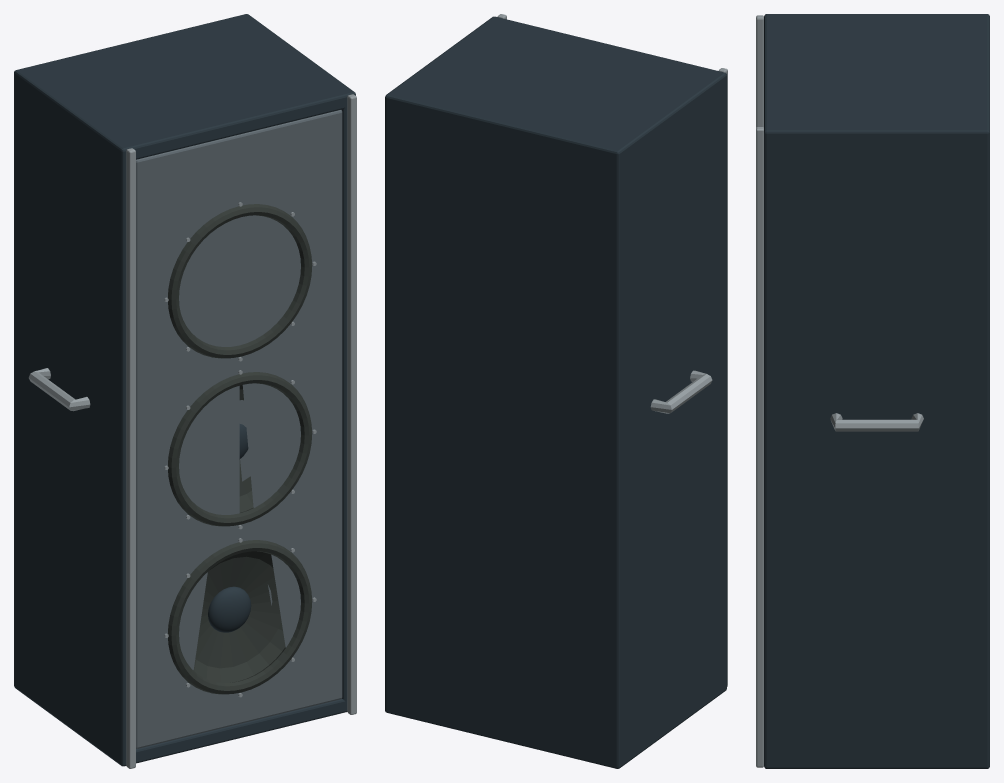
File: AH02_SpeakerStack.fbx
The picture shows the model from 3 angles, left to right: view 1: azimuth 30°, elevation 25°; view 2: azimuth 150°, elevation 25°; view 3: azimuth 270°, elevation 25°; orthographic projection. The views are drawn at different scales.
Parts seen in each view (by area): view 1: AH02_SpeakerStack_AH02_Ink, AH02_SpeakerStack_AH02_MetalDark, AH02_SpeakerStack_AH02_Rubber, AH02_SpeakerStack_AH02_Metal; view 2: AH02_SpeakerStack_AH02_Ink, AH02_SpeakerStack_AH02_Metal; view 3: AH02_SpeakerStack_AH02_Ink, AH02_SpeakerStack_AH02_Metal.
Boxes of the visible parts, bbox=[...] form: AH02_SpeakerStack_AH02_Ink: bbox=[14, 14, 355, 766]; AH02_SpeakerStack_AH02_MetalDark: bbox=[136, 110, 342, 748]; AH02_SpeakerStack_AH02_Rubber: bbox=[168, 204, 312, 694]; AH02_SpeakerStack_AH02_Metal: bbox=[28, 94, 356, 768]; AH02_SpeakerStack_AH02_Ink: bbox=[385, 16, 726, 768]; AH02_SpeakerStack_AH02_Metal: bbox=[497, 14, 727, 686]; AH02_SpeakerStack_AH02_Ink: bbox=[764, 14, 989, 768]; AH02_SpeakerStack_AH02_Metal: bbox=[756, 15, 923, 767].
Size of the model in its own units: 180 by 390 by 130.
